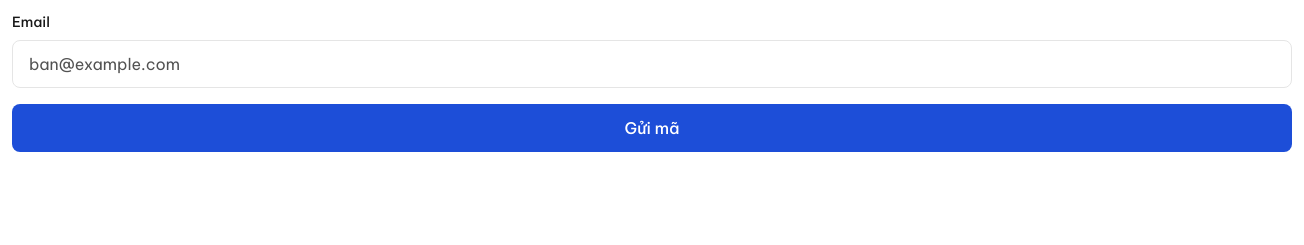
Test: OtpSignInForm › cho quay lại sửa email
The image size is (1304, 245).
Type "sv@example.com" into the field labelled "Email" at {"x": 652, "y": 64}, box [12, 40, 1292, 88]
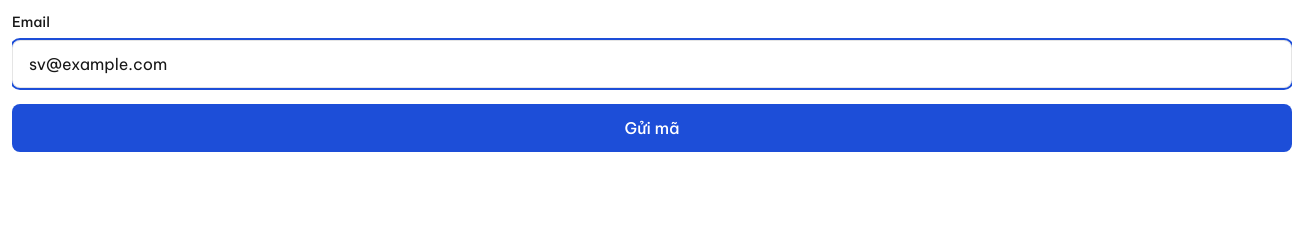
Click the button "Gửi mã" at {"x": 652, "y": 128}, box [12, 104, 1292, 152]
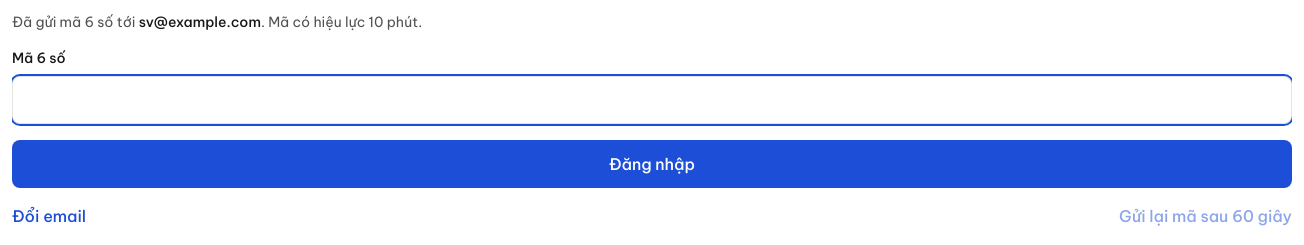
Click the button "Đổi email" at {"x": 49, "y": 216}, box [12, 204, 86, 228]
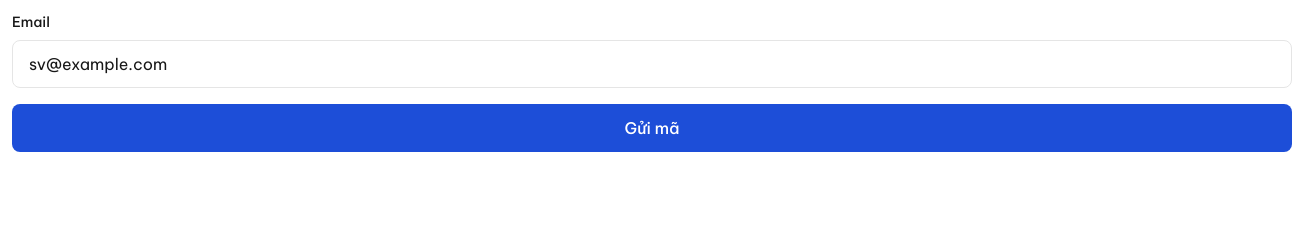
Expected: the field labelled "Email" holds "sv@example.com", [12, 40, 1292, 88]
